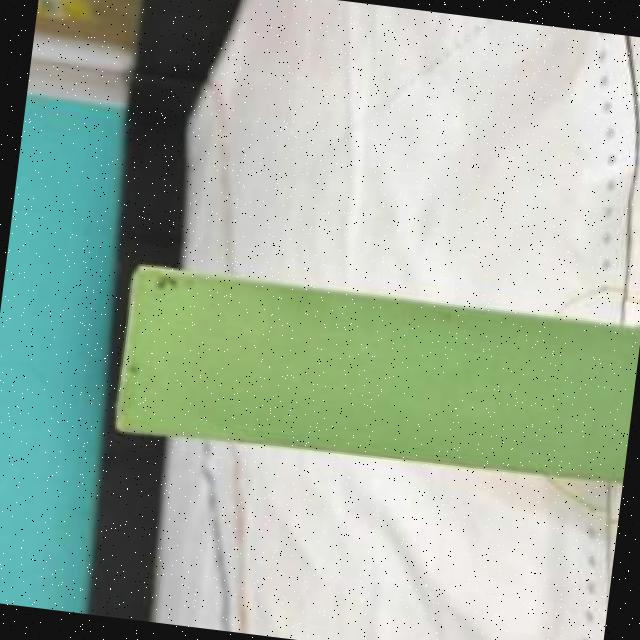greenbox: (113, 265, 640, 486)
